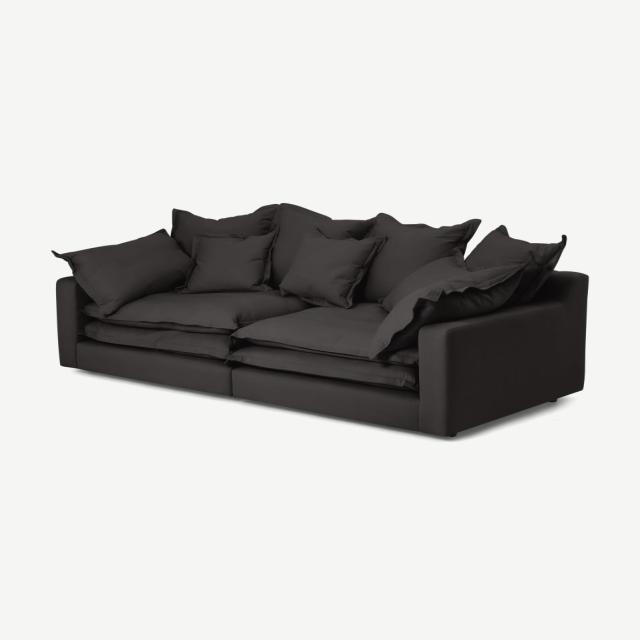Soffa: (49, 191, 594, 447)
